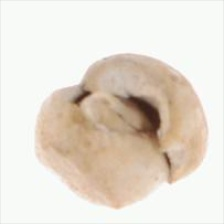L3: (75, 87, 165, 135)
L4: (33, 52, 208, 209)
